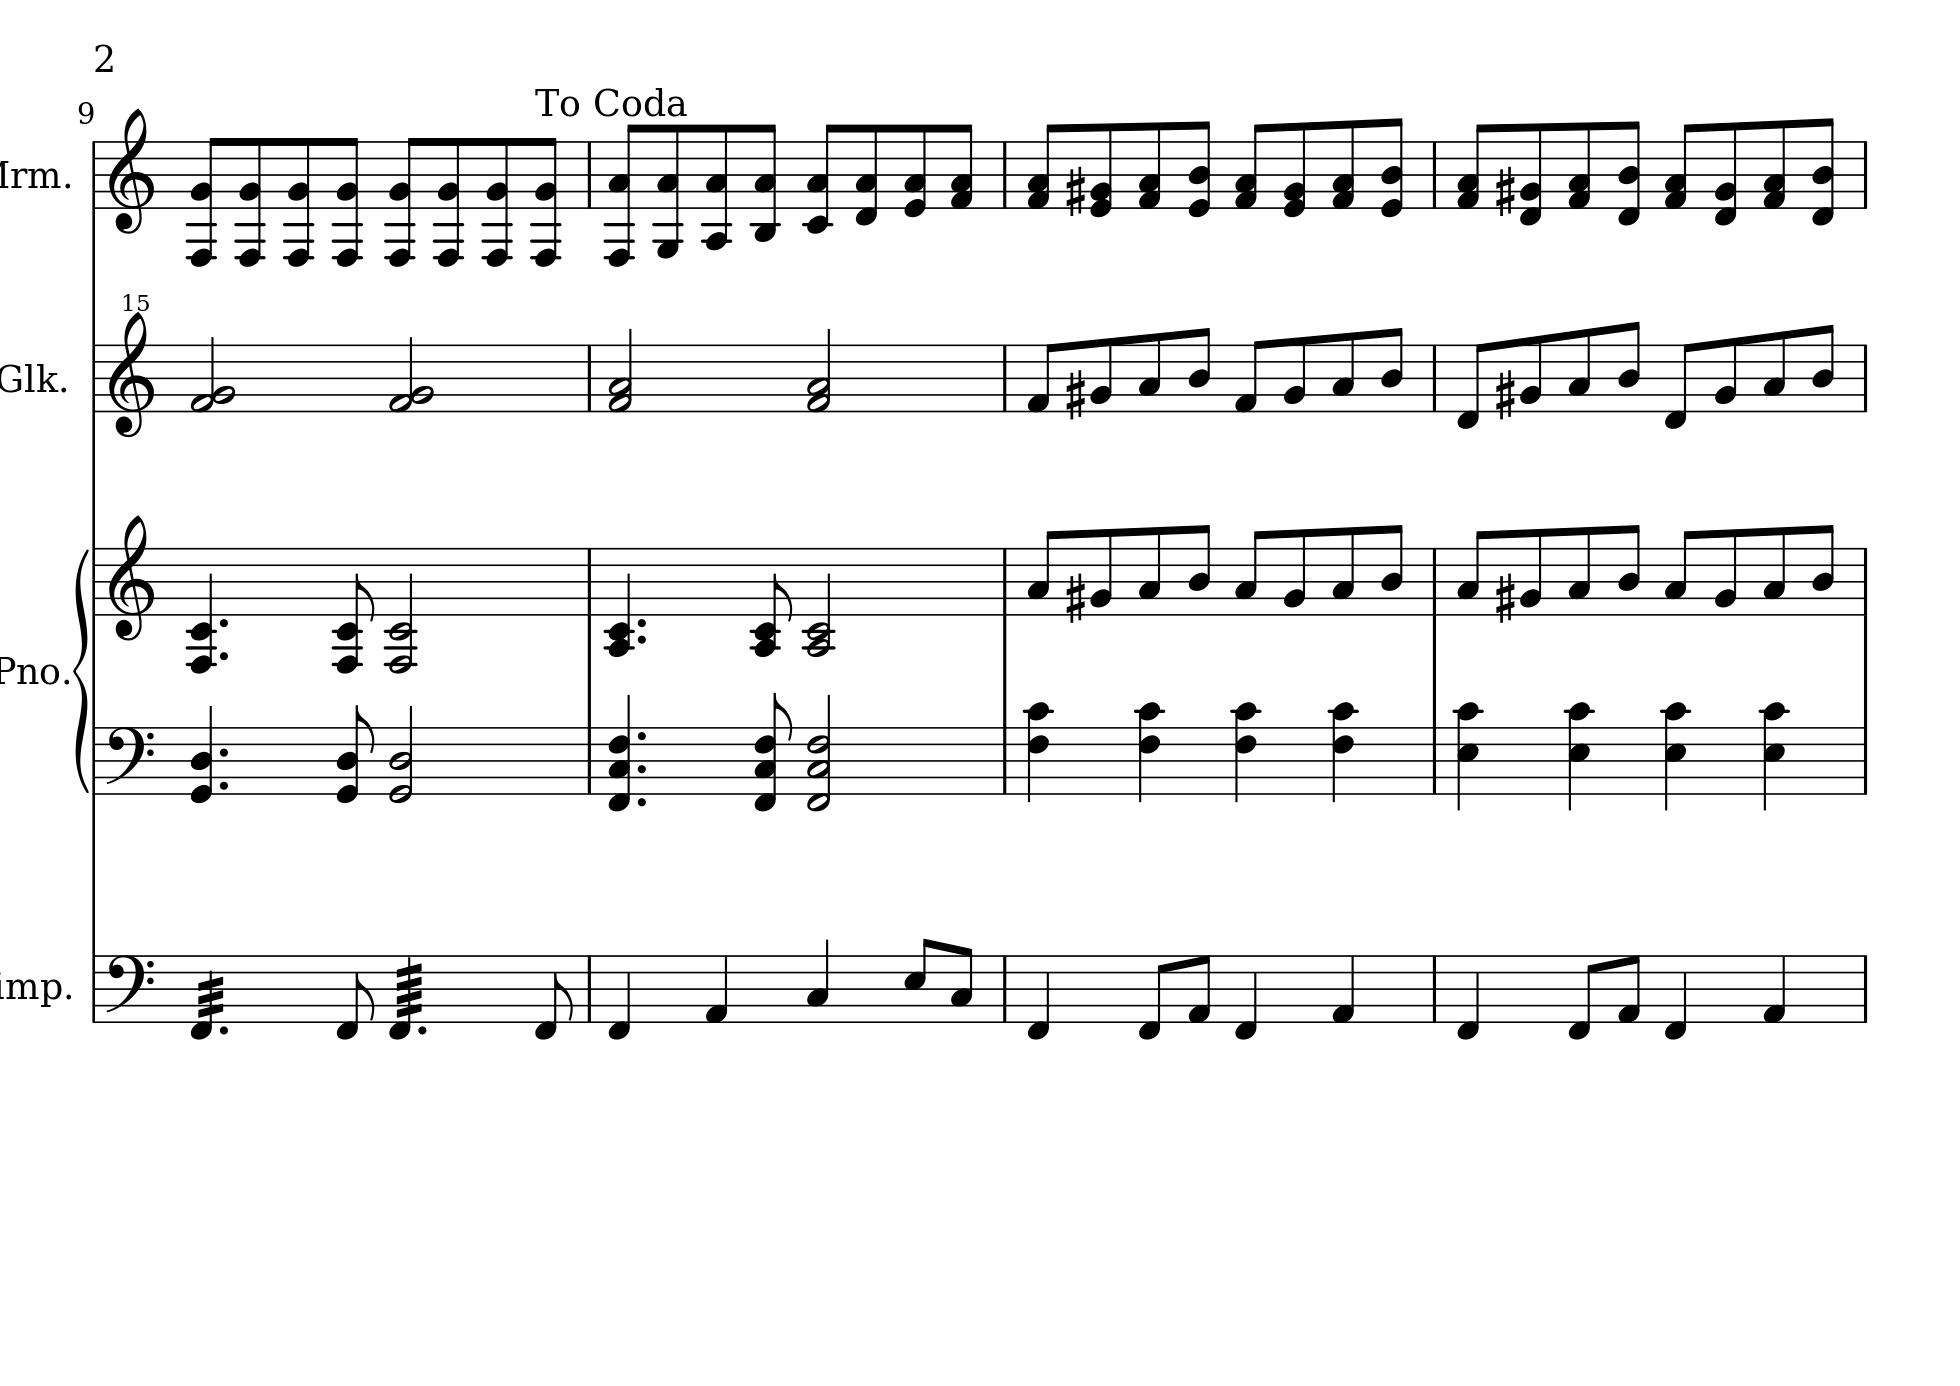2: (91, 42, 115, 72)
2_-4_-2: (802, 546, 837, 658)
2_-6_-2: (382, 546, 420, 676)
2_0_4: (385, 705, 415, 804)
2_1_2: (388, 336, 433, 415), (190, 337, 235, 414)
2_1_3: (603, 328, 634, 415), (805, 328, 832, 415)
2_th: (805, 693, 834, 814)
4_-1: (1233, 952, 1260, 1041), (1455, 952, 1482, 1041), (606, 952, 631, 1042), (1663, 952, 1689, 1042), (1026, 952, 1051, 1041)
4_-4_-2: (601, 547, 637, 658)
4_-6_-2: (187, 546, 220, 673)
4_0_4: (187, 705, 216, 805)
4_1: (1762, 952, 1788, 1024), (703, 954, 729, 1024), (1330, 954, 1356, 1024)
4_3: (805, 939, 831, 1023)
4_5_10: (1450, 700, 1485, 813), (1659, 699, 1692, 811), (1563, 700, 1596, 811), (1758, 700, 1791, 811)
4_6_10: (1131, 699, 1167, 801), (1023, 700, 1057, 802), (1228, 699, 1263, 801), (1324, 700, 1359, 802)
4_th: (607, 691, 634, 811)
8_-1: (334, 952, 373, 1041), (534, 952, 573, 1041), (1455, 340, 1491, 430), (1662, 340, 1698, 430), (1137, 952, 1170, 1041), (1567, 952, 1599, 1042)
8_-1_2: (1516, 121, 1545, 228), (1713, 121, 1740, 226)
8_-1_3: (853, 121, 880, 226)
8_-1_4: (1614, 118, 1644, 228), (1810, 115, 1836, 228)
8_-2_3: (802, 121, 841, 235)
8_-3_3: (750, 121, 783, 244)
8_-4_-2: (750, 544, 793, 658)
8_-4_3: (700, 123, 733, 253)
8_-5_3: (652, 121, 685, 261)
8_-6_-2: (330, 544, 376, 673)
8_-6_2: (427, 136, 466, 268), (186, 136, 225, 267), (228, 135, 267, 265), (276, 136, 315, 267), (324, 136, 363, 267), (382, 136, 421, 267), (475, 136, 514, 267), (523, 135, 562, 265)
8_-6_3: (604, 123, 643, 268)
8_0_2: (1086, 121, 1116, 217), (1282, 121, 1311, 220)
8_0_3: (901, 121, 930, 219)
8_0_4: (334, 705, 376, 805), (1185, 118, 1213, 220)
8_1: (1233, 337, 1269, 414), (1027, 340, 1062, 414), (1186, 952, 1212, 1024), (1617, 952, 1642, 1024)
8_1_3: (1234, 123, 1270, 211), (1665, 123, 1699, 211), (1458, 121, 1491, 211), (1027, 121, 1059, 211), (1762, 120, 1791, 211), (1332, 117, 1359, 211), (1566, 120, 1593, 213), (948, 121, 975, 213), (1137, 118, 1164, 210)
8_1_4: (1380, 115, 1405, 217)
8_2: (1518, 526, 1545, 618), (1713, 526, 1740, 618), (1089, 526, 1116, 616), (1281, 528, 1308, 618), (1518, 333, 1545, 415), (1713, 334, 1740, 414), (1089, 334, 1114, 415), (1282, 334, 1308, 415)
8_3: (1663, 528, 1696, 618), (1233, 528, 1266, 616), (1027, 528, 1059, 616), (1458, 528, 1489, 616), (1761, 525, 1789, 618), (1137, 525, 1164, 618), (1330, 525, 1357, 618), (1566, 525, 1593, 618), (1566, 327, 1593, 415), (1762, 328, 1789, 415), (1330, 331, 1357, 415), (1137, 331, 1164, 414), (949, 943, 973, 1024)
8_4: (1617, 522, 1642, 618), (1617, 319, 1642, 414), (1186, 522, 1212, 616), (1380, 522, 1405, 616), (1810, 523, 1836, 616), (1380, 325, 1405, 414), (1812, 322, 1836, 414), (1188, 325, 1212, 414)
8_5: (903, 936, 934, 1024)
8_th: (754, 691, 795, 814)
9: (76, 99, 94, 124)
Fclef: (103, 724, 157, 796), (103, 952, 154, 1024)
Gclef: (106, 307, 157, 438), (106, 511, 157, 640), (106, 106, 156, 235)
Hn: (1, 156, 60, 196)
Ob: (1, 357, 55, 399)
Pno: (1, 652, 60, 688)
Sharp: (1494, 163, 1518, 219), (1494, 570, 1518, 625), (1494, 367, 1518, 421), (1065, 163, 1087, 217), (1065, 571, 1086, 625), (1065, 369, 1086, 421)
Single_barline: (1425, 954, 1446, 1021), (996, 139, 1015, 208), (1857, 139, 1875, 210), (1426, 141, 1444, 208), (996, 343, 1014, 411), (580, 547, 598, 615), (580, 727, 598, 793), (1426, 547, 1443, 615), (1857, 547, 1873, 615), (997, 726, 1014, 793), (1428, 726, 1444, 793), (997, 954, 1014, 1021), (1857, 727, 1873, 793), (87, 955, 103, 1021), (580, 955, 597, 1021), (1857, 955, 1873, 1021), (997, 549, 1014, 613), (1858, 343, 1873, 412), (1428, 343, 1443, 412), (582, 141, 597, 208), (582, 345, 597, 411), (87, 343, 100, 412), (87, 141, 100, 208), (88, 547, 102, 615), (88, 727, 102, 793)
Stem: (187, 955, 229, 1038), (388, 952, 426, 1041)
ToCoda: (528, 84, 688, 121)
dot: (634, 631, 649, 646), (634, 795, 649, 810), (217, 1023, 232, 1038), (634, 727, 648, 742), (634, 760, 648, 775), (217, 616, 231, 630), (217, 649, 231, 663), (415, 1024, 430, 1036), (636, 616, 648, 630), (217, 778, 231, 790), (217, 745, 229, 757)
